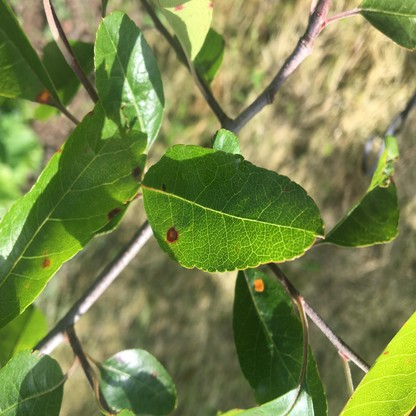rust: (107, 208, 121, 221), (252, 278, 264, 293), (166, 228, 177, 243), (37, 90, 49, 103), (41, 251, 50, 268), (133, 167, 141, 177), (161, 182, 166, 190), (151, 372, 157, 378)
